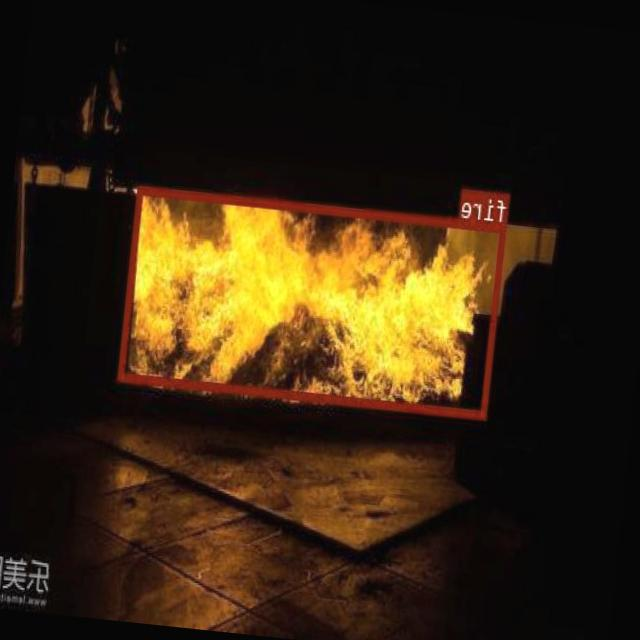fire: (119, 184, 507, 418)
